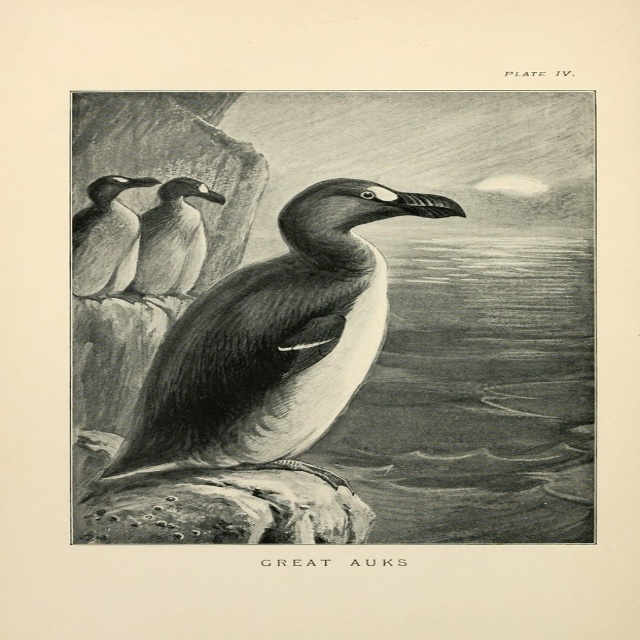Penguin: (92, 160, 492, 487)
